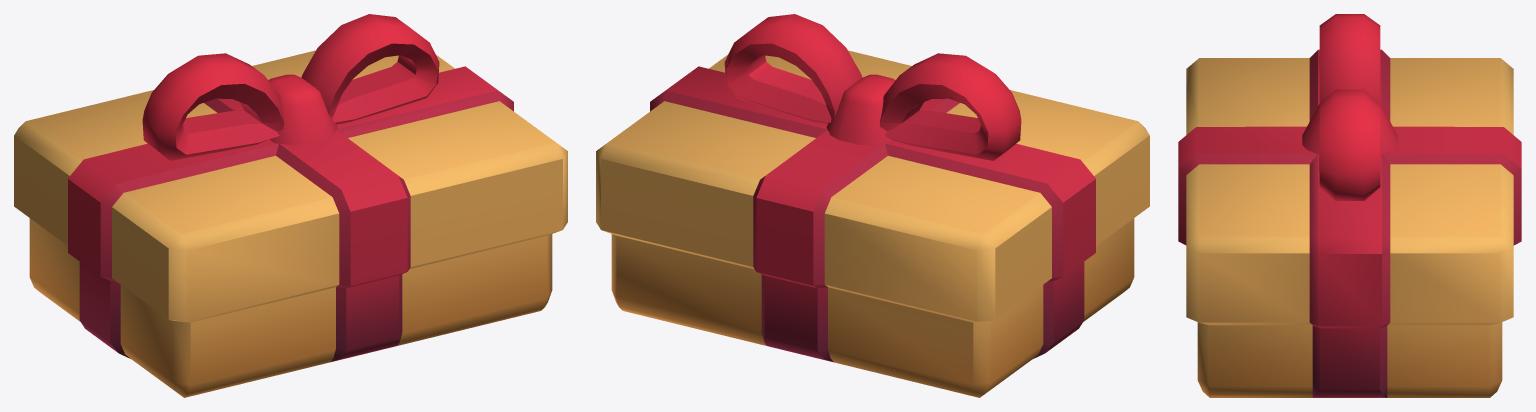
File: Present_C.gltf
3 views of the same model, side by side, from view 1: azimuth 30°, elevation 25°; view 2: azimuth 150°, elevation 25°; view 3: azimuth 270°, elevation 25° (orthographic). The views are drawn at different scales.
Parts seen in each view (by area): view 1: Present_C; view 2: Present_C; view 3: Present_C.
Boxes of the visible parts, bbox=[...] form: Present_C: bbox=[14, 14, 567, 397]; Present_C: bbox=[596, 14, 1149, 397]; Present_C: bbox=[1178, 14, 1521, 397].
Size of the model in its own units: 0.7638 by 0.4617 by 0.5638.
1 material, 1 textured.
